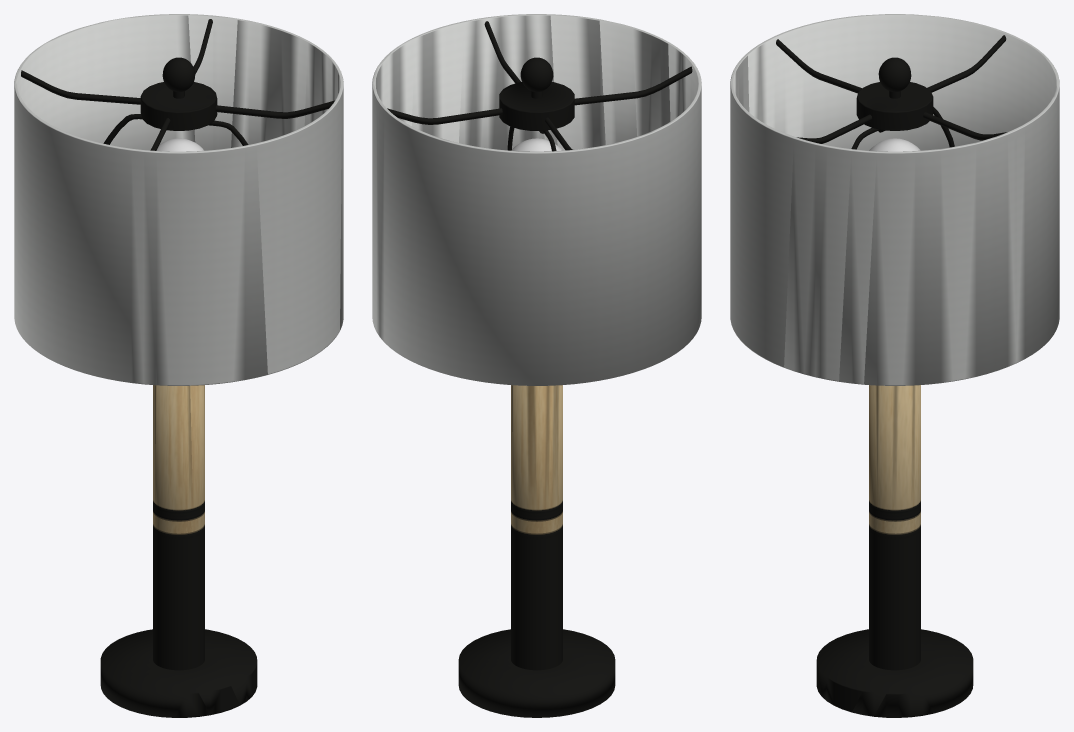
The picture shows the model from 3 angles, left to right: view 1: azimuth 30°, elevation 25°; view 2: azimuth 150°, elevation 25°; view 3: azimuth 270°, elevation 25°; orthographic projection.
Parts seen in each view (by area): view 1: RootNode; view 2: RootNode; view 3: RootNode.
Boxes of the visible parts, left/top/right/bottom form: RootNode: left=14, top=14, right=343, bottom=717; RootNode: left=372, top=14, right=701, bottom=717; RootNode: left=730, top=14, right=1059, bottom=717.
Bounding box in the file's own units: 0.3051 × 0.641 × 0.3051.
1 material, 1 textured.
